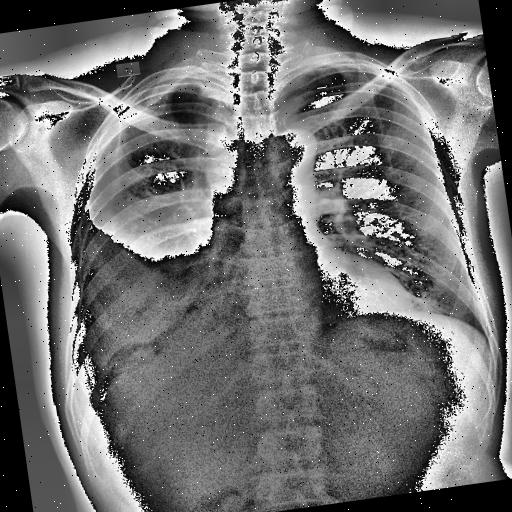0- Aortic enlargement: (269, 124, 323, 190)
10- Pleural effusion: (34, 186, 232, 407), (55, 184, 236, 382), (54, 200, 220, 352)
7- Lung Opacity: (106, 74, 192, 123)
